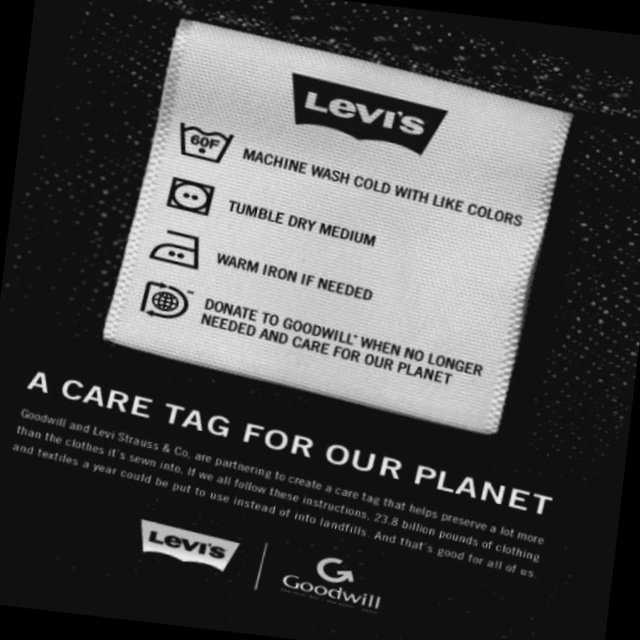30C: (167, 109, 243, 175)
iron_medium: (142, 218, 214, 280)
tumble_dry_medium: (157, 169, 224, 226)
